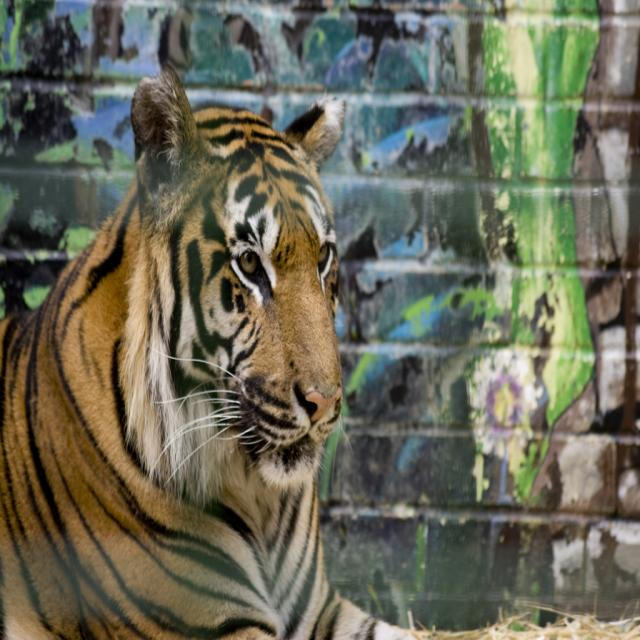Tiger: (0, 62, 416, 638)
